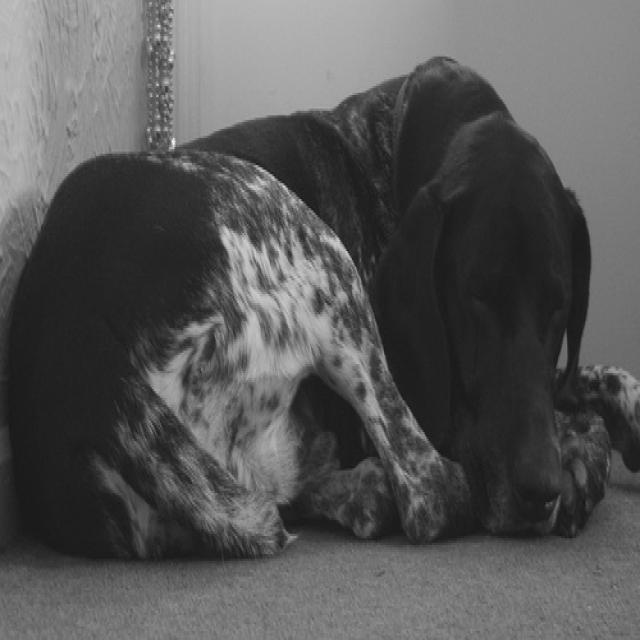dog-german_shorthaired: (1, 43, 637, 561)
